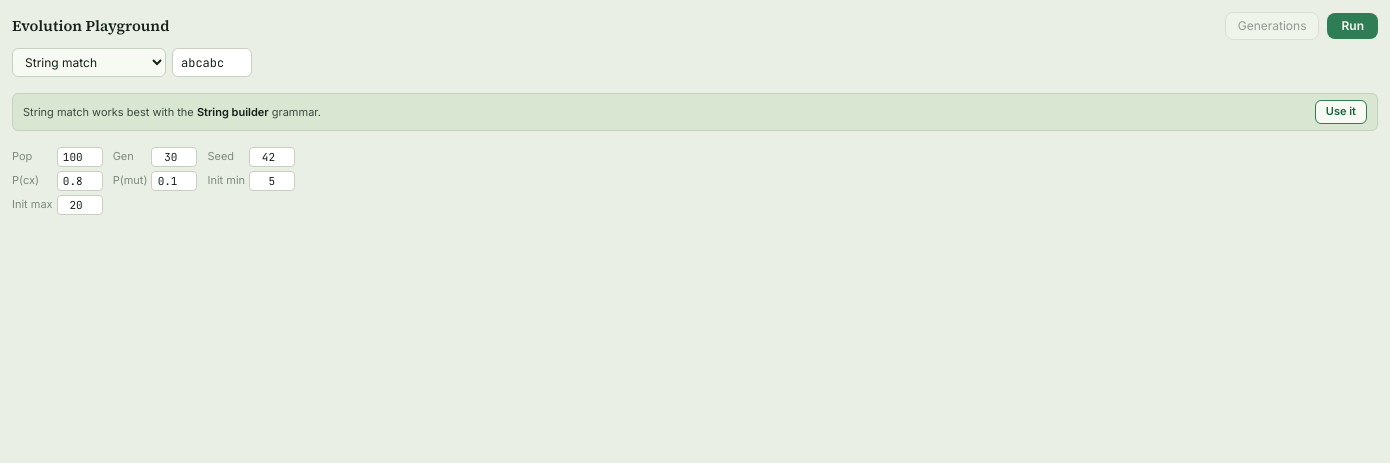
Scenario: EvolutionPanel › shows the custom fitness editor with a live check
This screenshot has width=1390, height=463.
Select "Custom (Python)" in the dropdown: [89, 63] box left=12, top=48, right=166, bottom=77
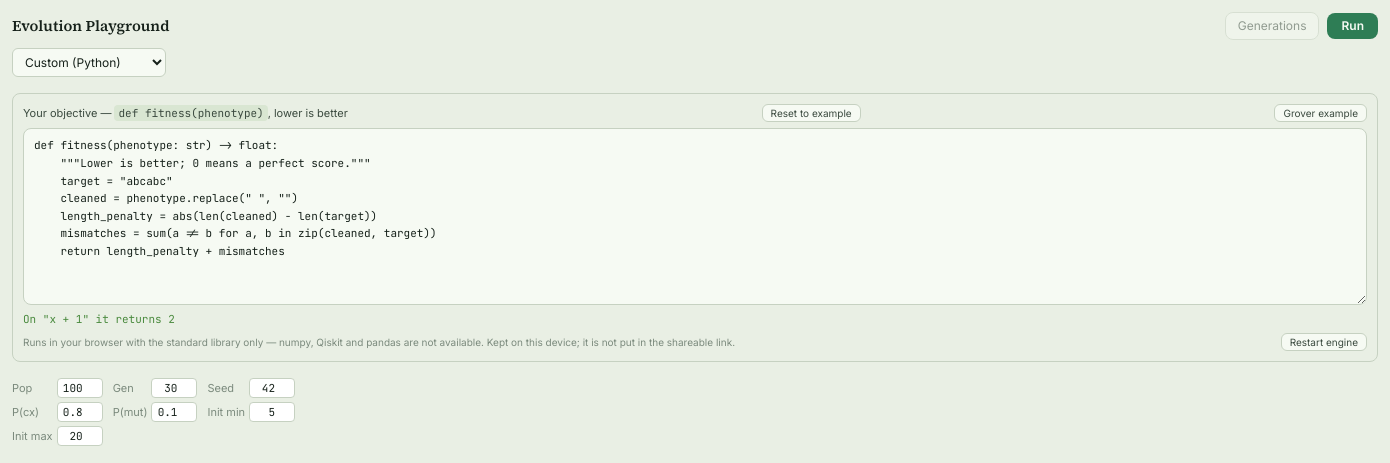
Now the text "On \"x + 1\" it returns 2" is shown, box left=23, top=312, right=175, bottom=326
